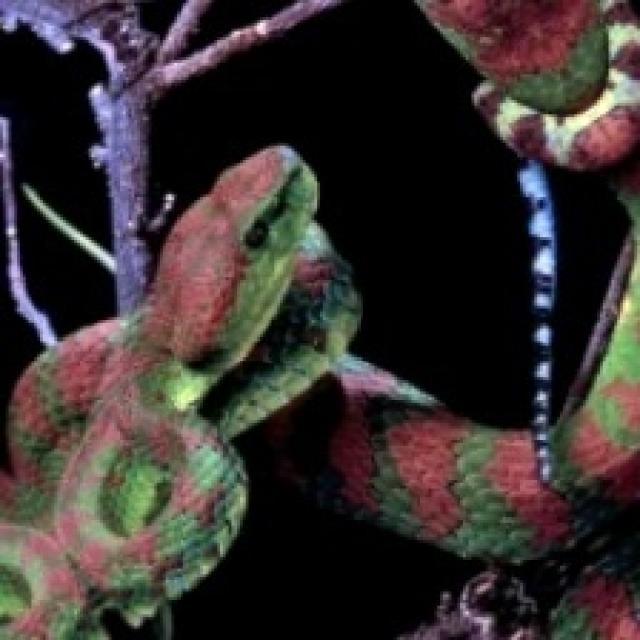philippine pitviper: (0, 148, 640, 640), (9, 146, 357, 637)
